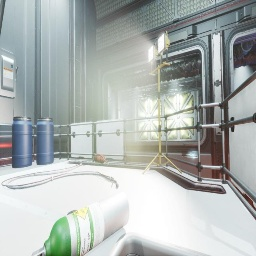0: (31, 191, 129, 256)
FireExtinguisher ]: (94, 153, 108, 164)
SafetySwitchPanel ,: (0, 48, 18, 98)
